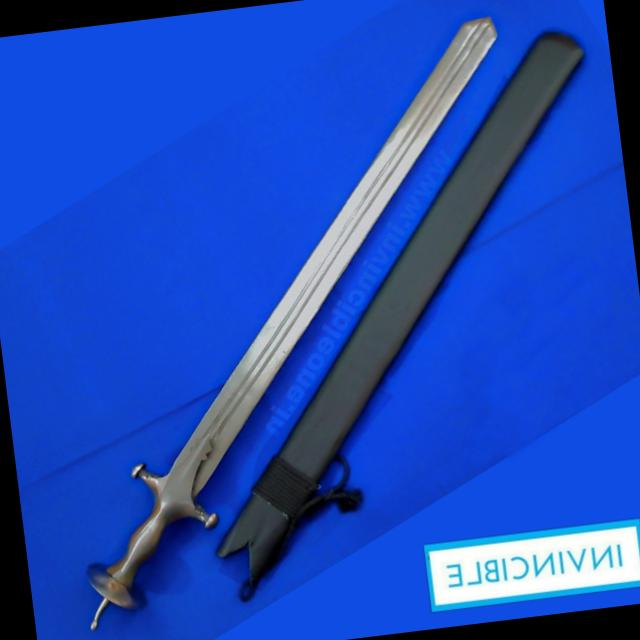Weapon: (16, 12, 565, 632)
